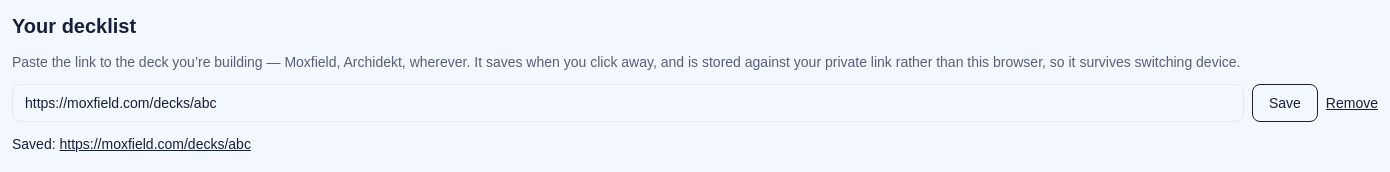
Test: DecklistLink › removes the saved link on Remove
Click the button "Remove". click: (1352, 103)
box: [1326,93,1378,113]
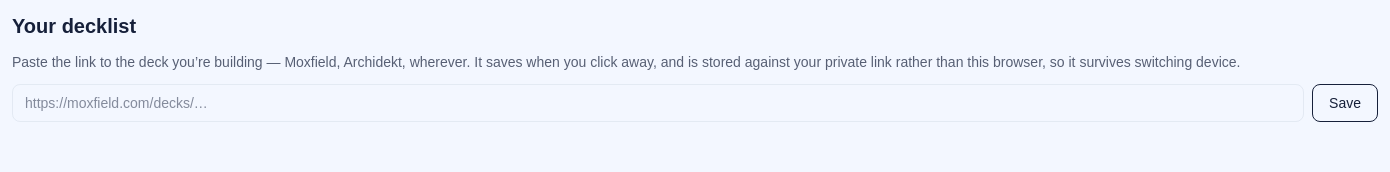
Result: the link "https://moxfield.com/decks/abc" is gone
